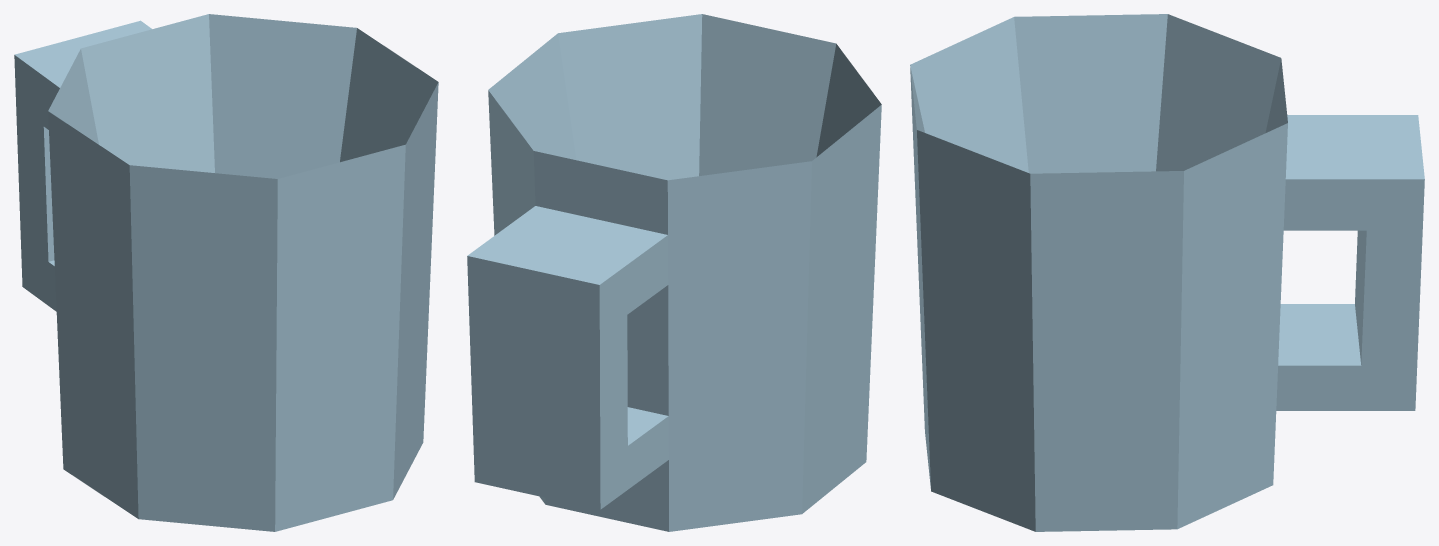
File: cup3.fbx
3 views of the same model, side by side, from view 1: azimuth 30°, elevation 25°; view 2: azimuth 150°, elevation 25°; view 3: azimuth 270°, elevation 25° (orthographic).
Parts seen in each view (by area): view 1: Cylinder; view 2: Cylinder; view 3: Cylinder.
Part boxes in pixels (x1=…): Cylinder: x1=14, y1=14, x2=438, y2=531; Cylinder: x1=467, y1=14, x2=881, y2=531; Cylinder: x1=910, y1=14, x2=1424, y2=531.
Bounding box in the file's own units: 282 × 300 × 384.
